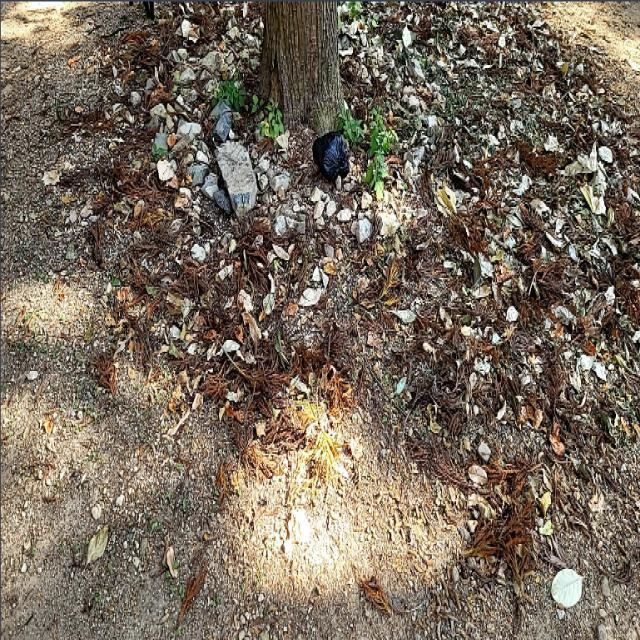Trashbag: (308, 118, 359, 188)
